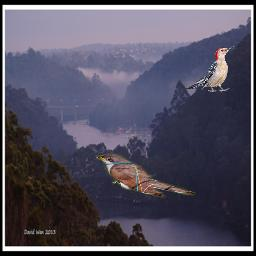Cuckoo: (94, 151, 197, 201)
Woodpecker: (184, 45, 235, 92)
